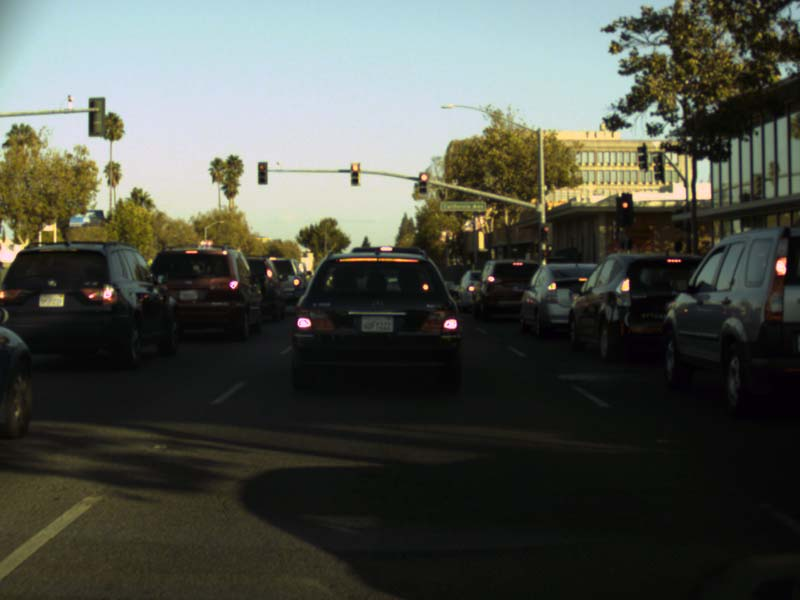Red: (616, 191, 634, 222), (350, 160, 360, 186), (257, 162, 267, 184), (419, 171, 426, 193), (540, 225, 548, 241)
